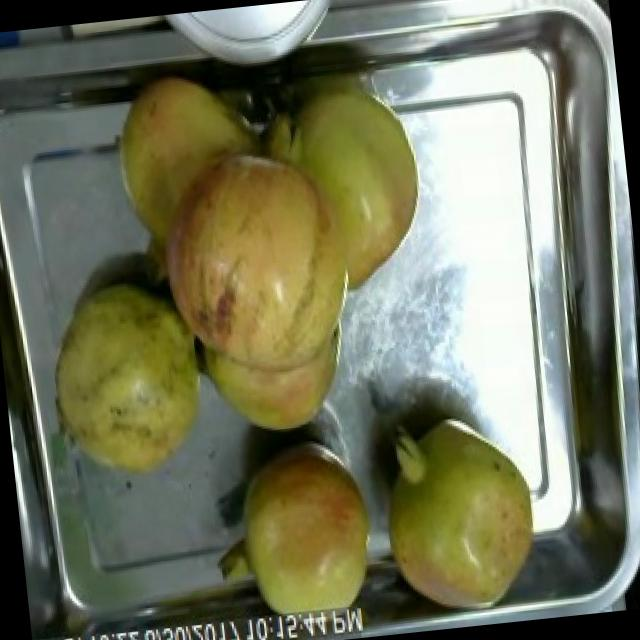fruit: (30, 255, 226, 505), (364, 392, 564, 627), (218, 426, 392, 640)
